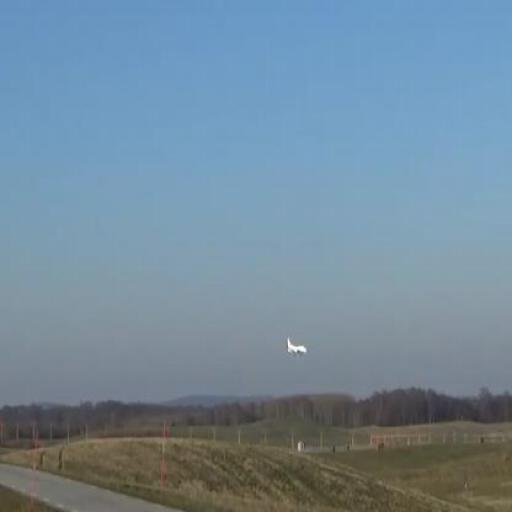aircraft: (288, 336, 307, 353)
